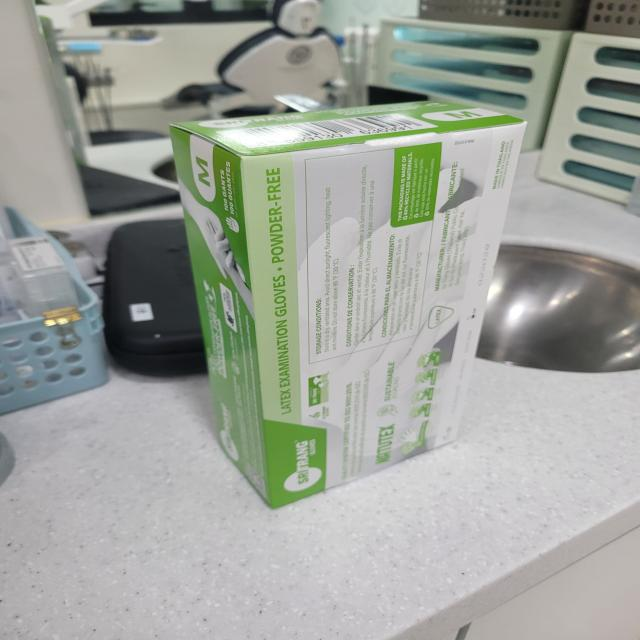glove: (160, 92, 530, 514)
